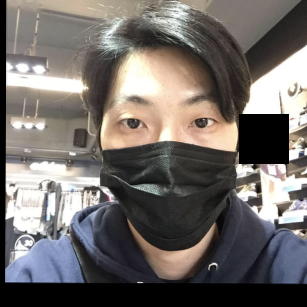with_mask: (97, 88, 239, 250)
